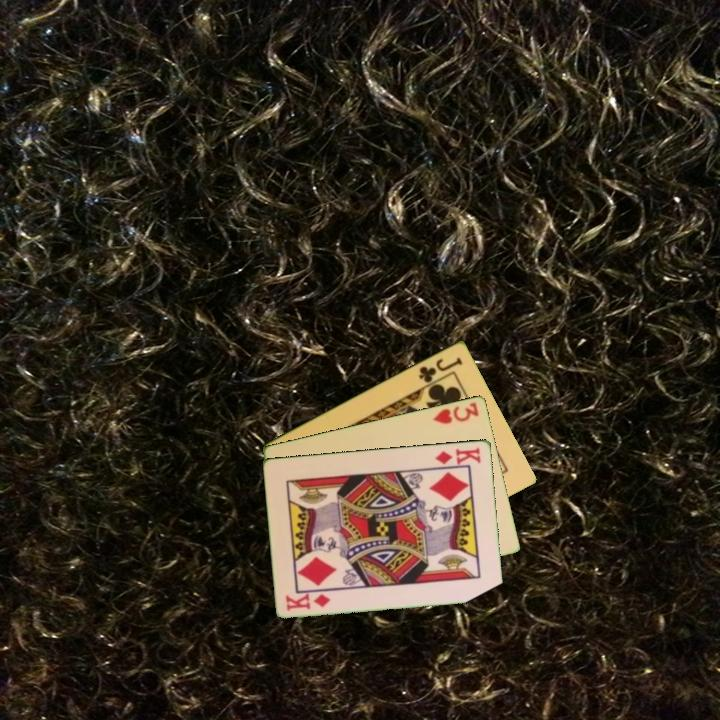3h: (430, 398, 482, 426)
Jc: (415, 353, 465, 385)
Kd: (432, 444, 484, 467), (282, 590, 334, 613)
